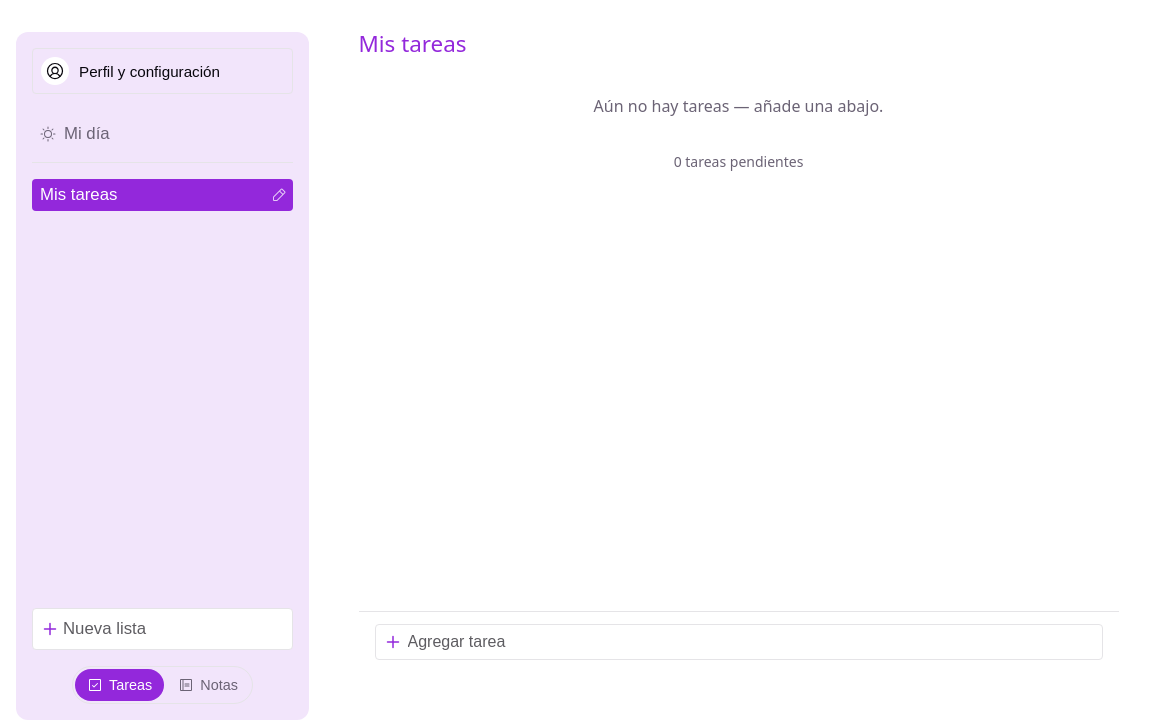
Test: App › deletes a todo
Step 1. Type "Buy milk" into the field named "texto de la nueva tarea" → (738, 642), box [374, 624, 1102, 660]
Then press Enter
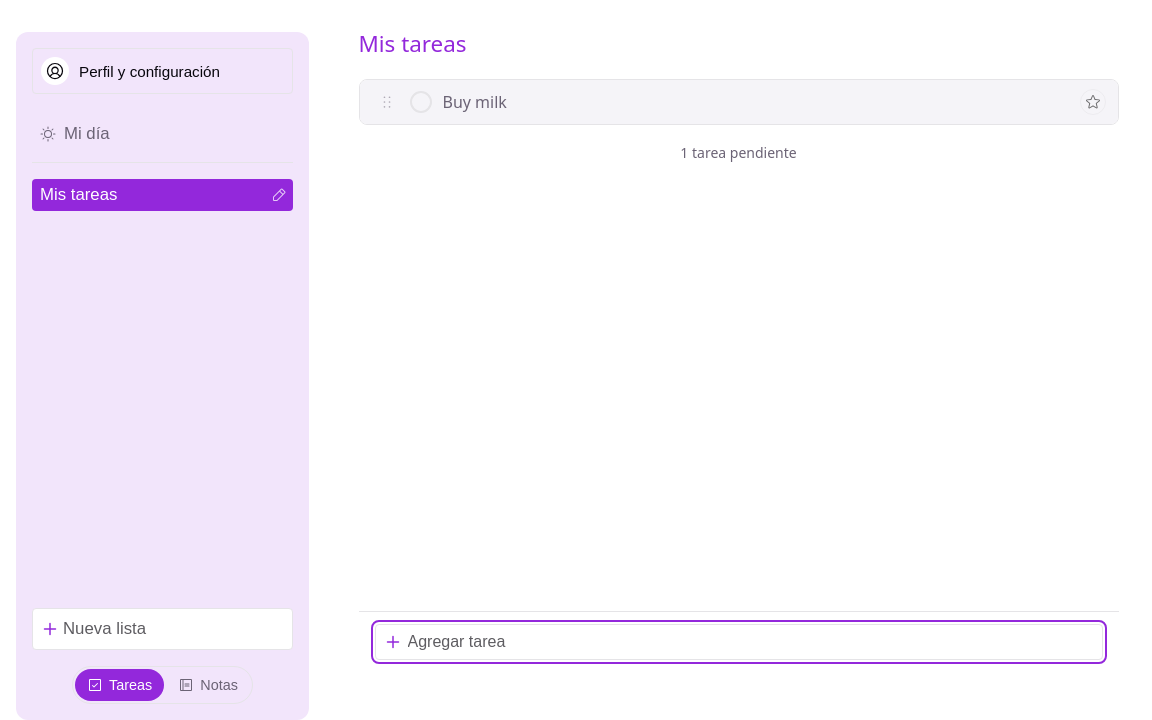
Step 2. Click the button "Buy milk" → (475, 102), box [438, 89, 1072, 116]
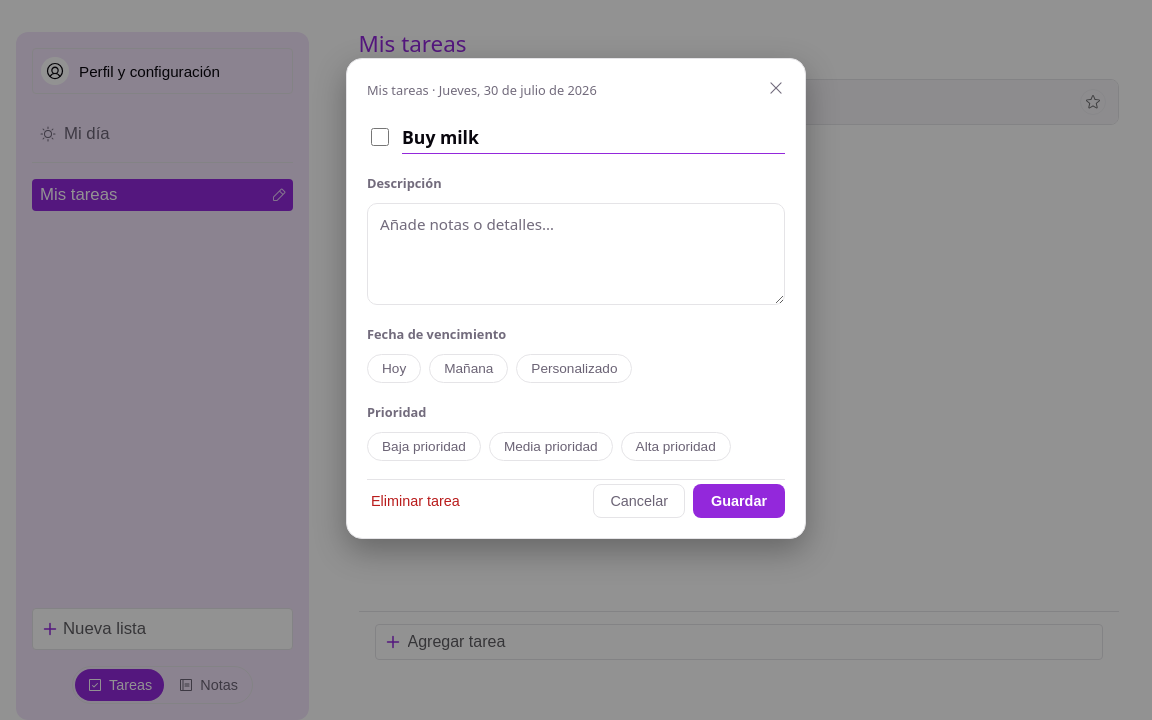
Step 3. Click the button "Eliminar tarea" → (415, 501), box [367, 485, 464, 517]
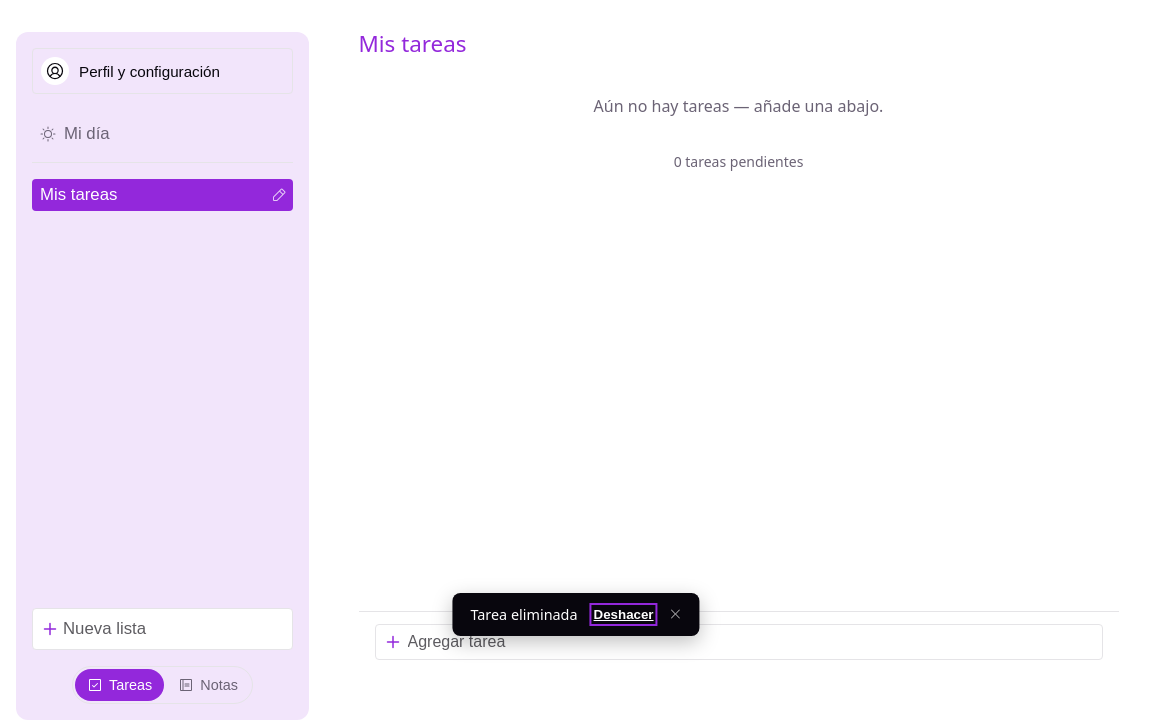
Now the button "Buy milk" is gone
Now the text "Aún no hay tareas — añade una abajo." is shown, box [594, 95, 883, 117]
